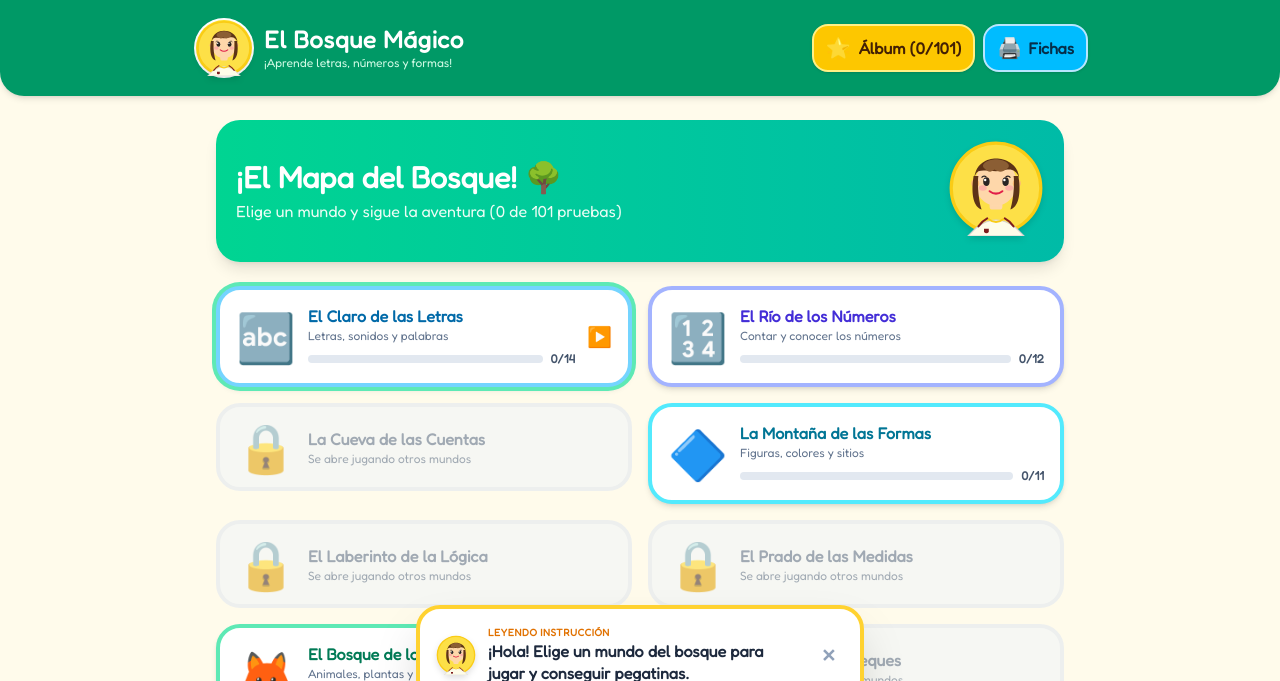
Test: App › deja jugar en varios mundos a la vez sin haber terminado ninguno
The width and height of the screenshot is (1280, 681).
Click the button "🔢 El Río de los Números Contar y conocer los números 0/12" at (856, 336), box [648,286,1064,387]
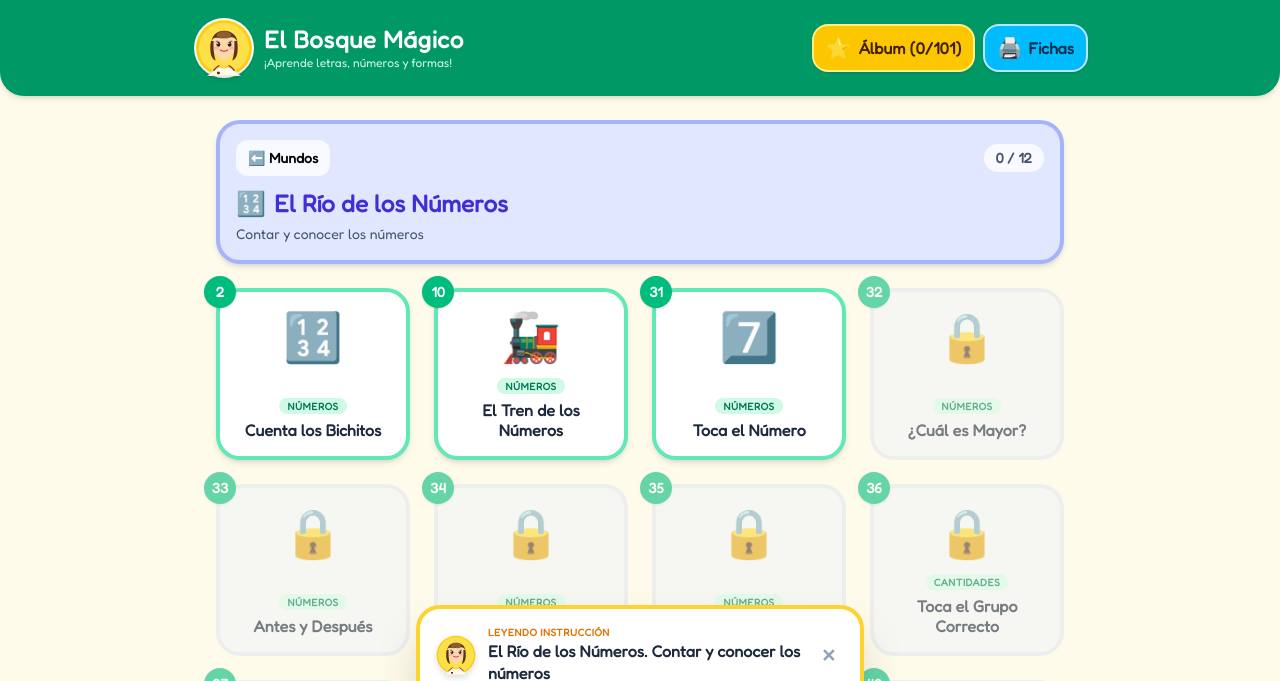
expect the button "2 🔢 Números Cuenta los Bichitos" is enabled: met, box [216,288,410,460]
